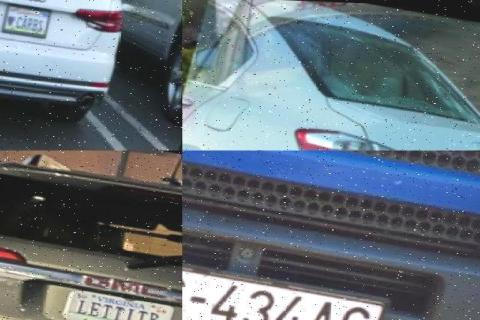LicensePlate: (182, 254, 373, 320), (58, 287, 173, 319), (0, 0, 51, 36)
